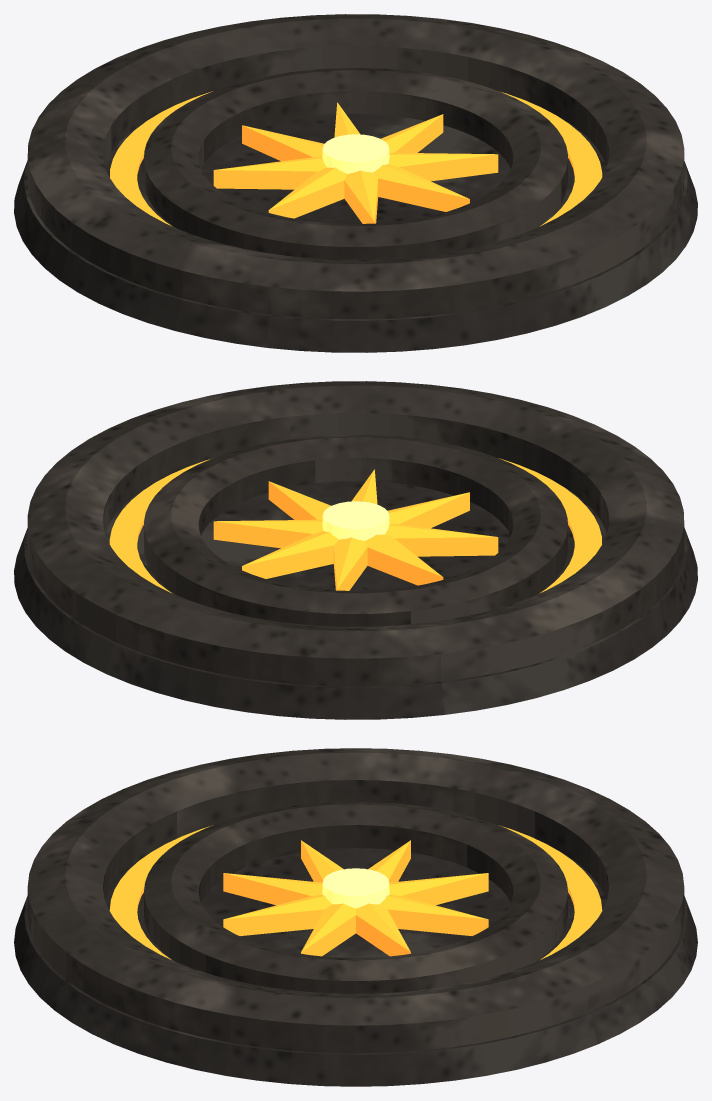
The model's file is CREMana03.glb.
The picture shows the model from 3 angles, top to bottom: view 1: azimuth 30°, elevation 25°; view 2: azimuth 150°, elevation 25°; view 3: azimuth 270°, elevation 25°; orthographic projection.
Parts seen in each view (by area): view 1: floor; view 2: floor; view 3: floor.
Part boxes in pixels (x1,y1,x2,y2): floor: (14,14,697,352); floor: (14,381,697,719); floor: (14,748,697,1086).
Bounding box in the file's own units: 2.69 × 0.29 × 2.69.
3 materials, 1 textured.
